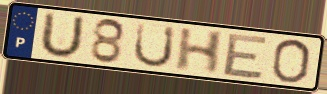8: (87, 17, 127, 66)
E: (220, 32, 271, 80)
H: (173, 26, 227, 76)
O: (268, 38, 313, 85)
U: (37, 10, 87, 60), (131, 21, 178, 69)
